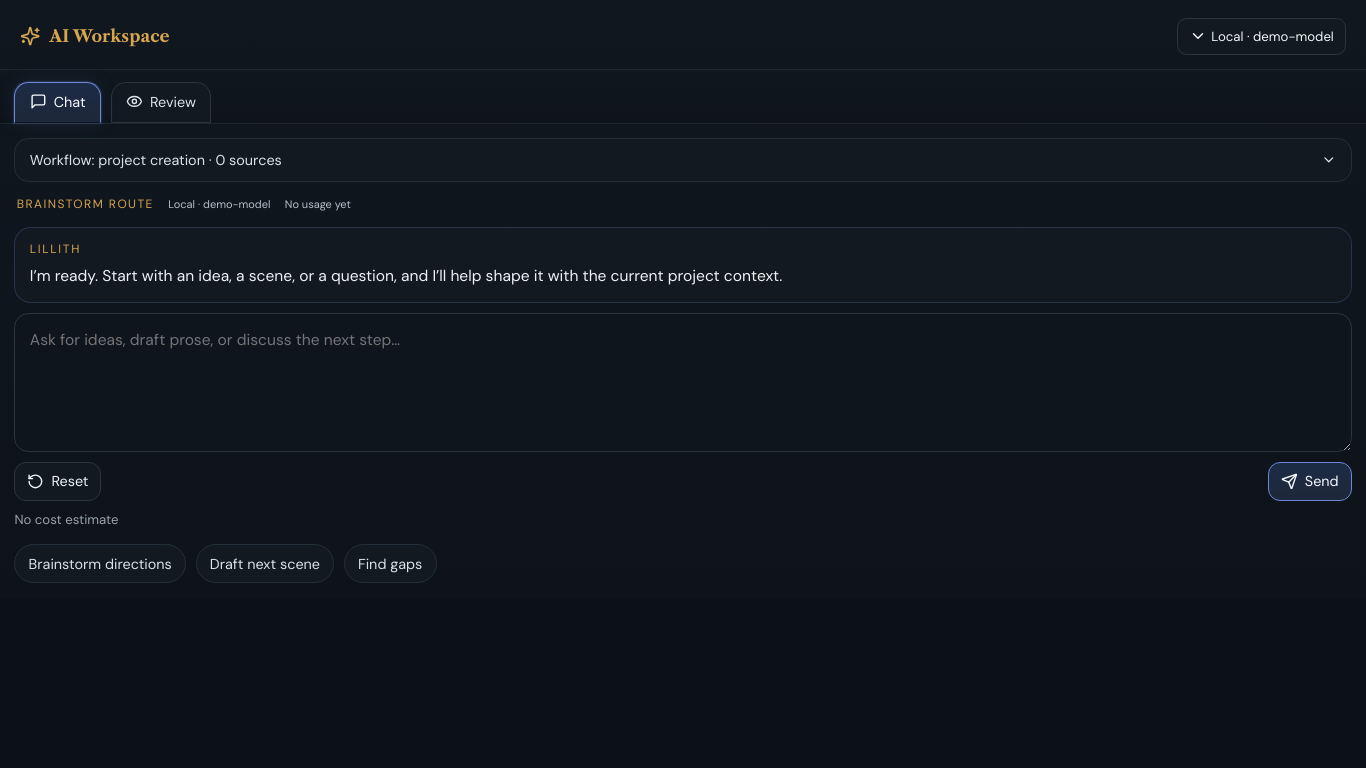
Test: ai workspace › sends a chat prompt and shows the assistant reply
The width and height of the screenshot is (1366, 768).
In the text box with placeholder "Ask for ideas, draft prose, or discuss the next step…": (683, 382) [14, 313, 1352, 452], type "Brainstorm a gnome king premise"
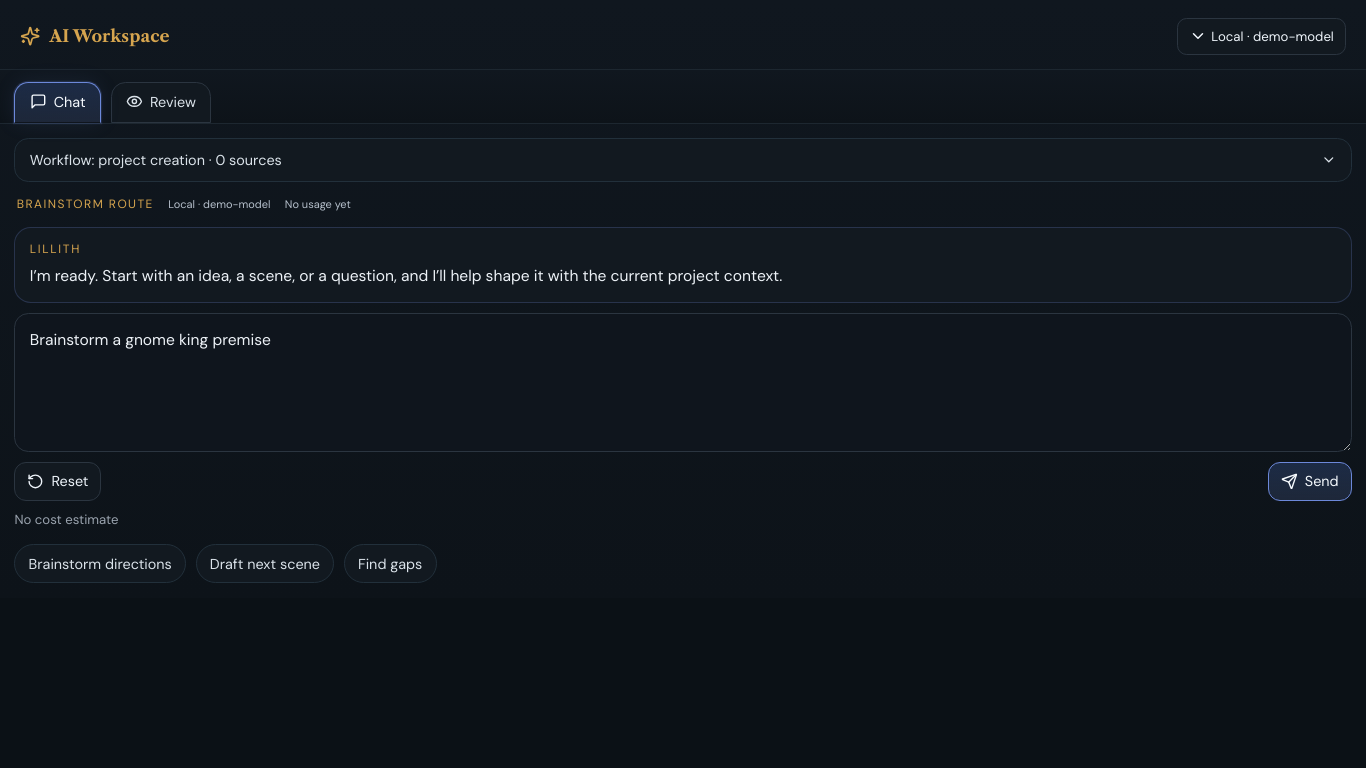
Click the button "Send": (1310, 481) [1268, 462, 1352, 501]
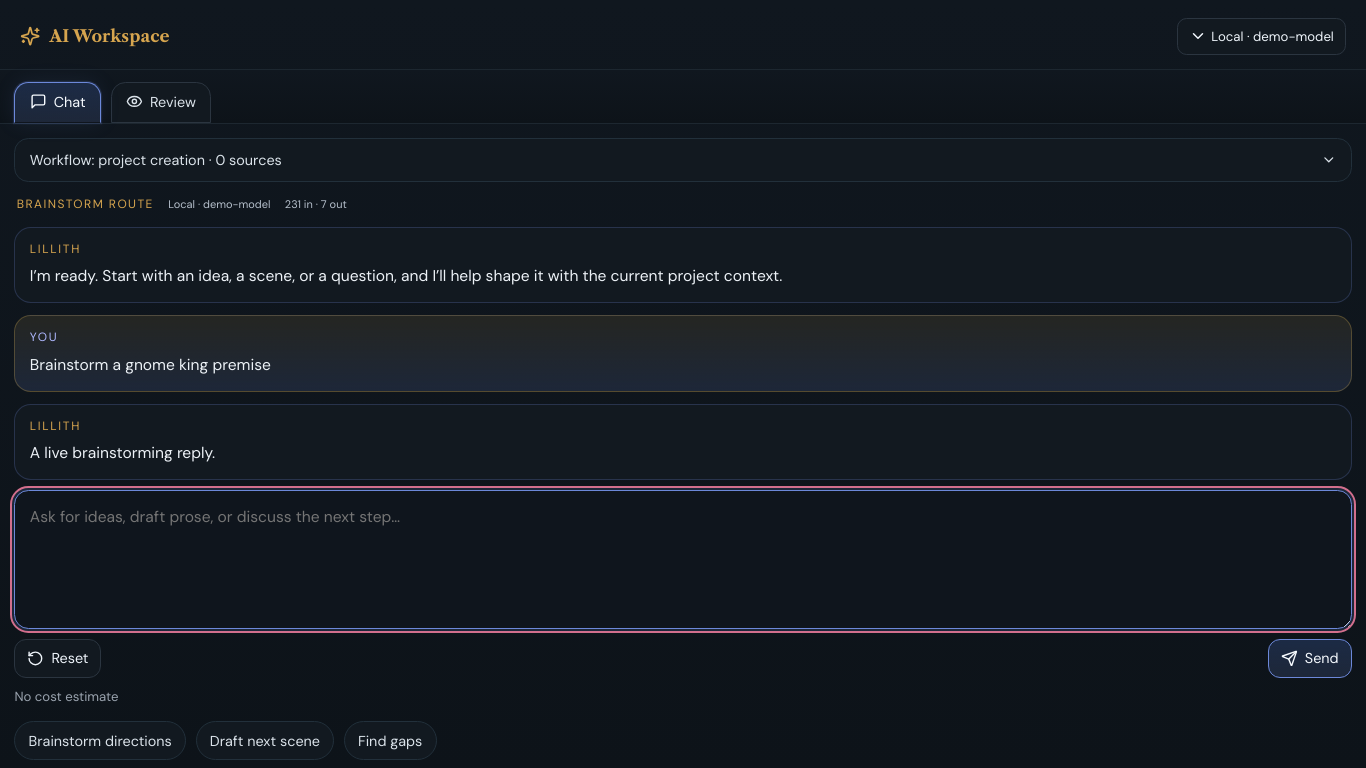
Now the text "A live brainstorming reply." is shown, box [30, 443, 215, 463]
